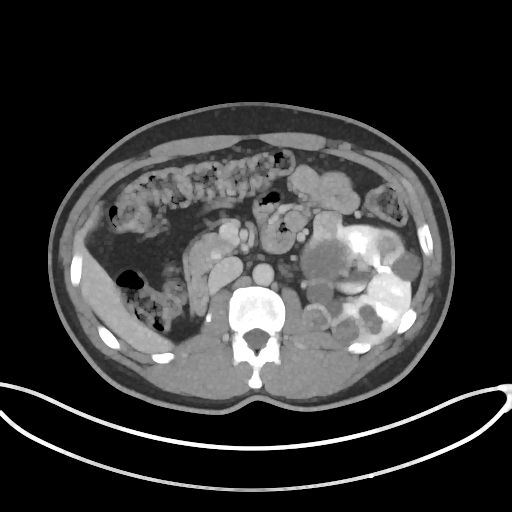Lesion: (301, 306, 329, 334)
